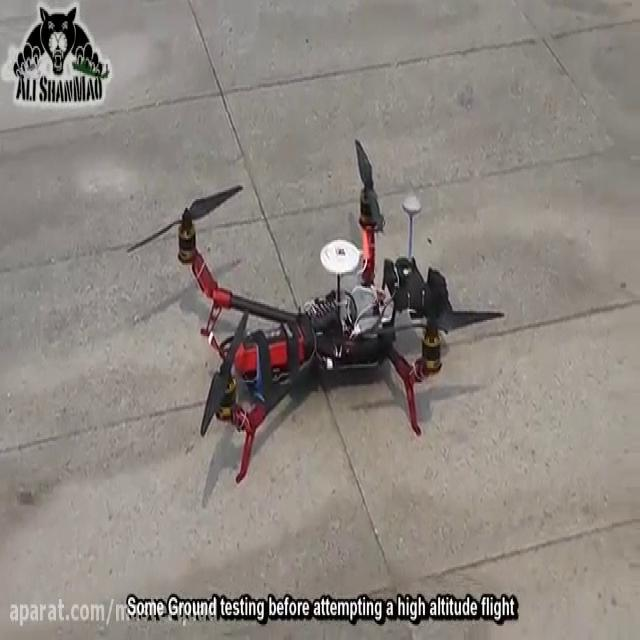drone: (121, 134, 508, 492)
